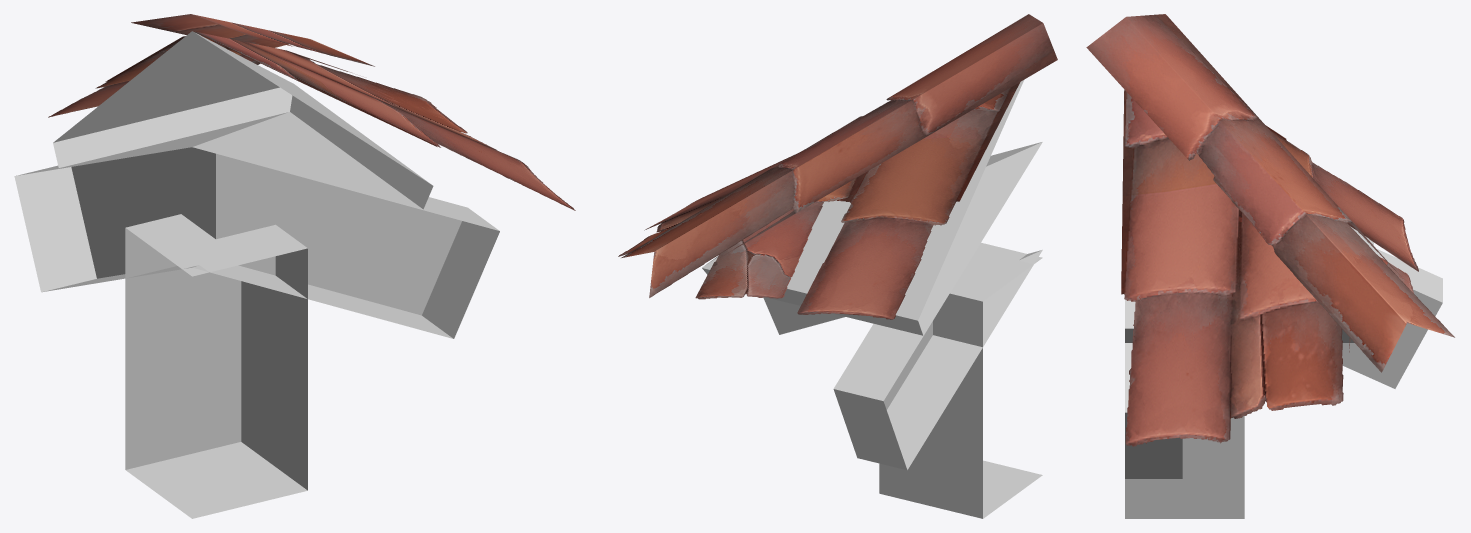
The model's file is WallKit_Hip_End_LOD1.fbx.
3 views of the same model, side by side, from view 1: azimuth 30°, elevation 25°; view 2: azimuth 150°, elevation 25°; view 3: azimuth 270°, elevation 25° (orthographic). The views are drawn at different scales.
Parts seen in each view (by area): view 1: WallKit_Hip_End_LOD1; view 2: WallKit_Hip_End_LOD1; view 3: WallKit_Hip_End_LOD1.
Part boxes in pixels (box(x1,y1,x2,y2)): WallKit_Hip_End_LOD1: box(14, 14, 575, 518); WallKit_Hip_End_LOD1: box(618, 14, 1057, 518); WallKit_Hip_End_LOD1: box(1086, 14, 1454, 518).
Size of the model in its own units: 77.32 by 86.28 by 64.16.
